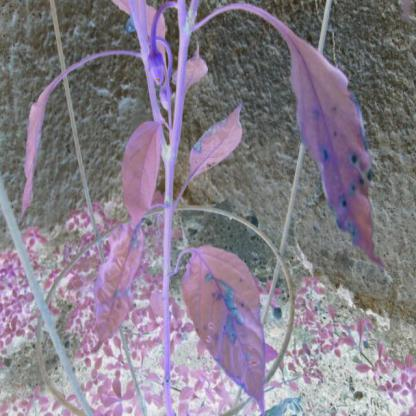bell pepper leaf spot: (281, 21, 385, 268), (181, 242, 267, 413), (94, 222, 144, 361), (187, 101, 244, 185), (18, 85, 52, 220)
